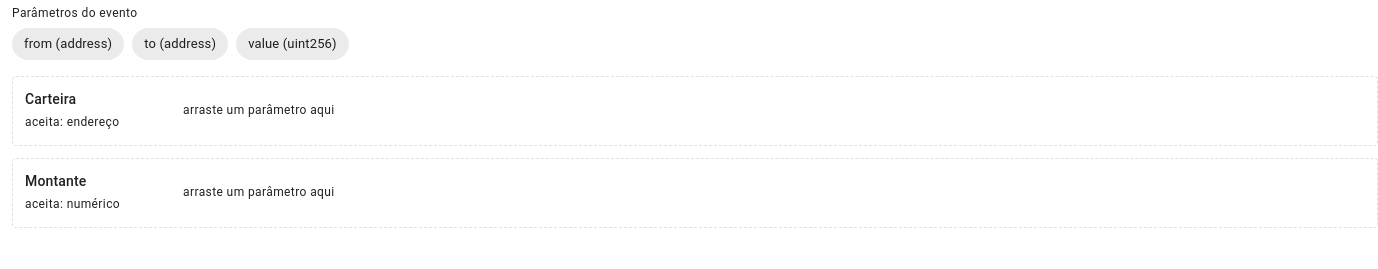
ParamBindingCanvas › vincula um parâmetro a um slot compatível pelo fallback de clique
Click the button with aria-label "Parâmetro to, tipo address". click: (180, 44)
box: [132,28,228,60]
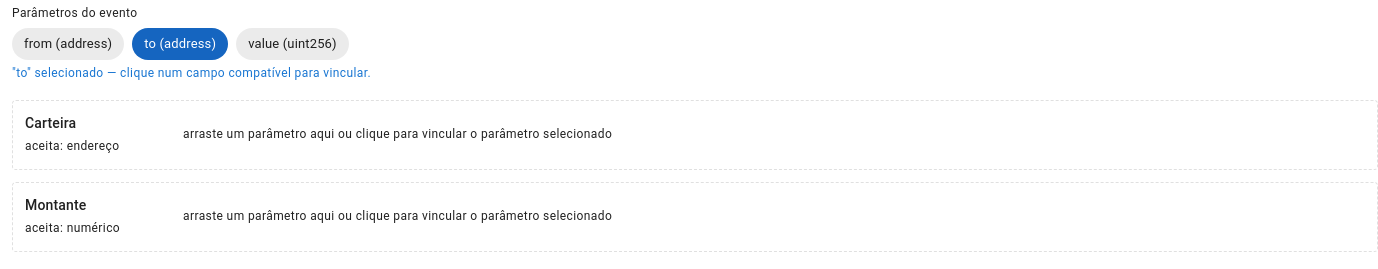
Click the button with aria-label "Campo Carteira (endereço), vazio". click: (51, 123)
box: [12,100,1377,170]
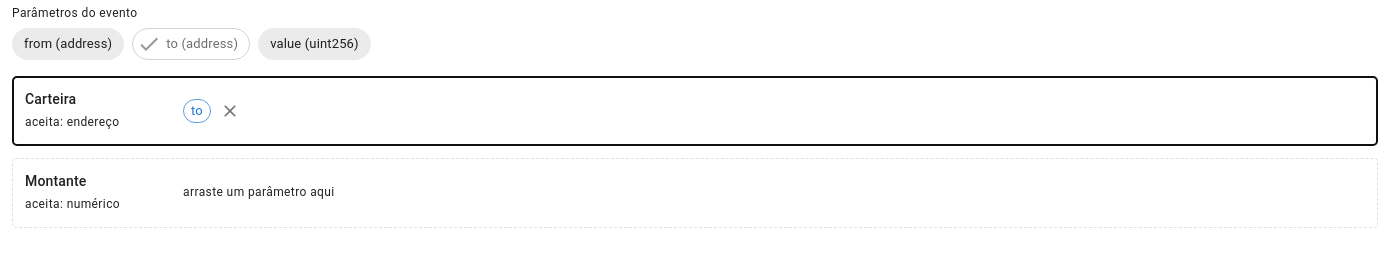
Now the button "Carteira aceita: endereço to" is shown, box [12,76,1377,146]
